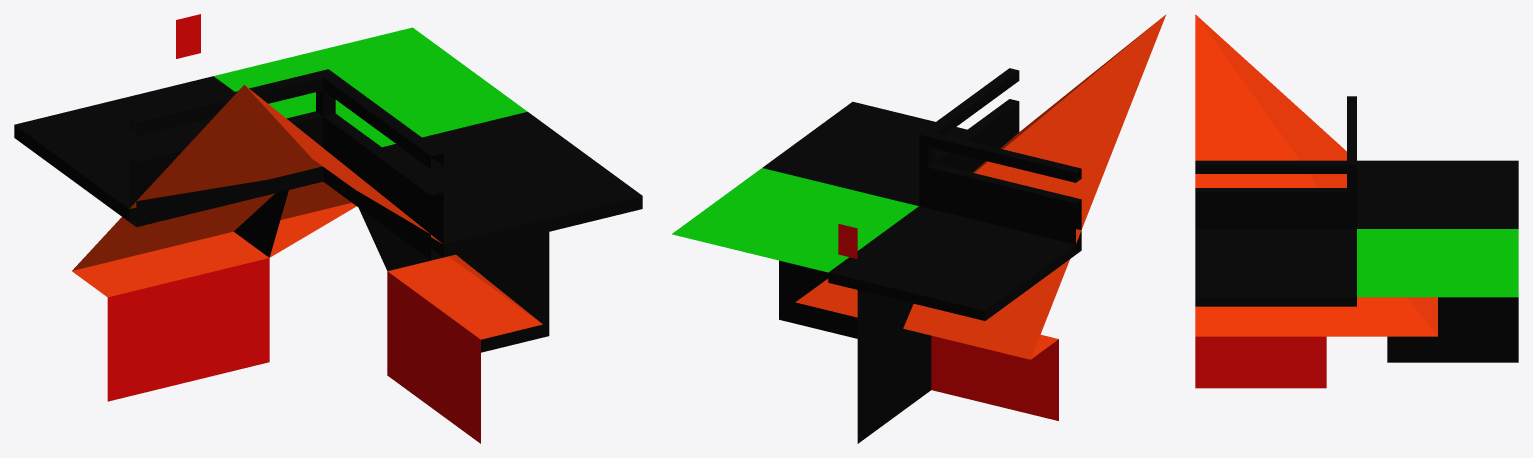
3 renders of one model, left to right at view 1: azimuth 30°, elevation 25°; view 2: azimuth 150°, elevation 25°; view 3: azimuth 270°, elevation 25°, orthographic. The views are drawn at different scales.
Parts seen in each view (by area): view 1: None_W_P_E_E_P_S_E_E_None; view 2: None_W_P_E_E_P_S_E_E_None; view 3: None_W_P_E_E_P_S_E_E_None.
Boxes of the visible parts, x1,y1,x2,y2 form: None_W_P_E_E_P_S_E_E_None: (14,14,642,443); None_W_P_E_E_P_S_E_E_None: (672,14,1166,443); None_W_P_E_E_P_S_E_E_None: (1195,14,1518,388).
Bounding box in the file's own units: 100 × 100 × 100.
